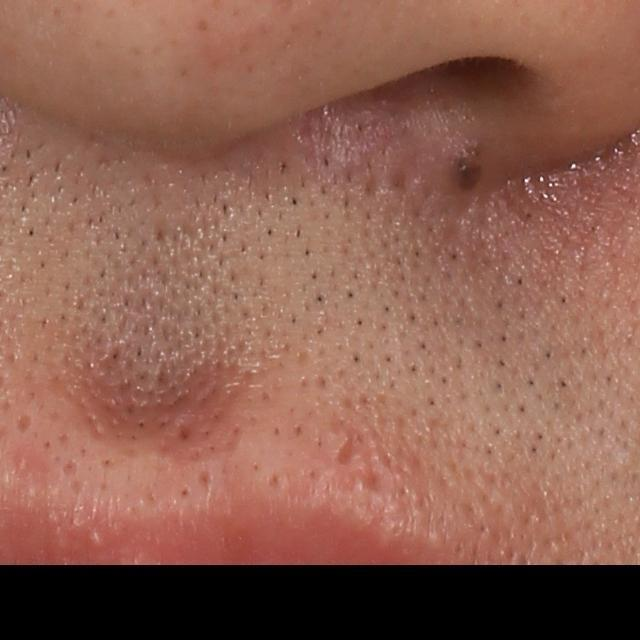atrophic_scar: (331, 420, 367, 467)
